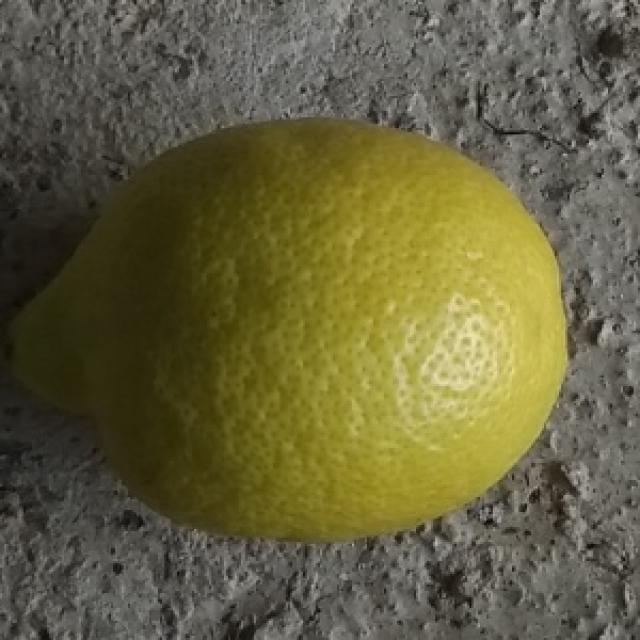Lemon: (7, 112, 573, 546)
